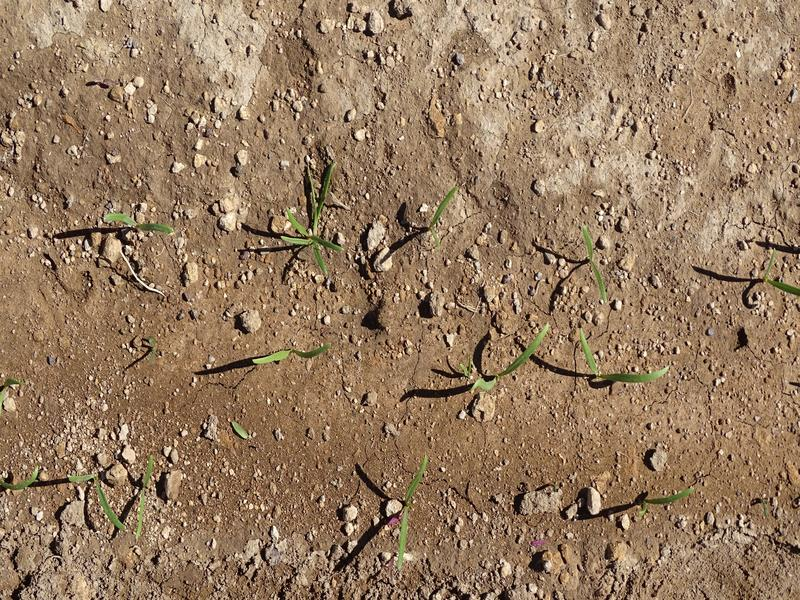Espinaca: (278, 166, 347, 275), (457, 323, 550, 391), (576, 327, 671, 387), (389, 453, 430, 576), (570, 221, 622, 305), (68, 470, 126, 532), (100, 210, 174, 240), (130, 458, 156, 535), (243, 344, 336, 365)
